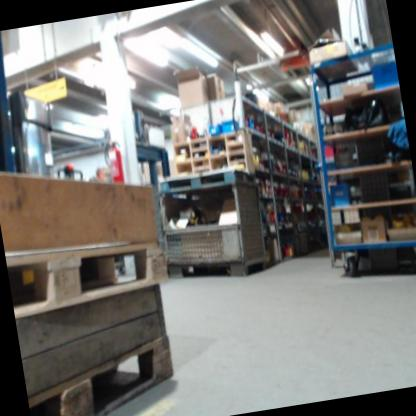pallet: (4, 218, 173, 320), (22, 329, 182, 416)
small_load_carrier: (371, 60, 399, 91), (328, 180, 352, 206)
stillage: (152, 173, 272, 288)
